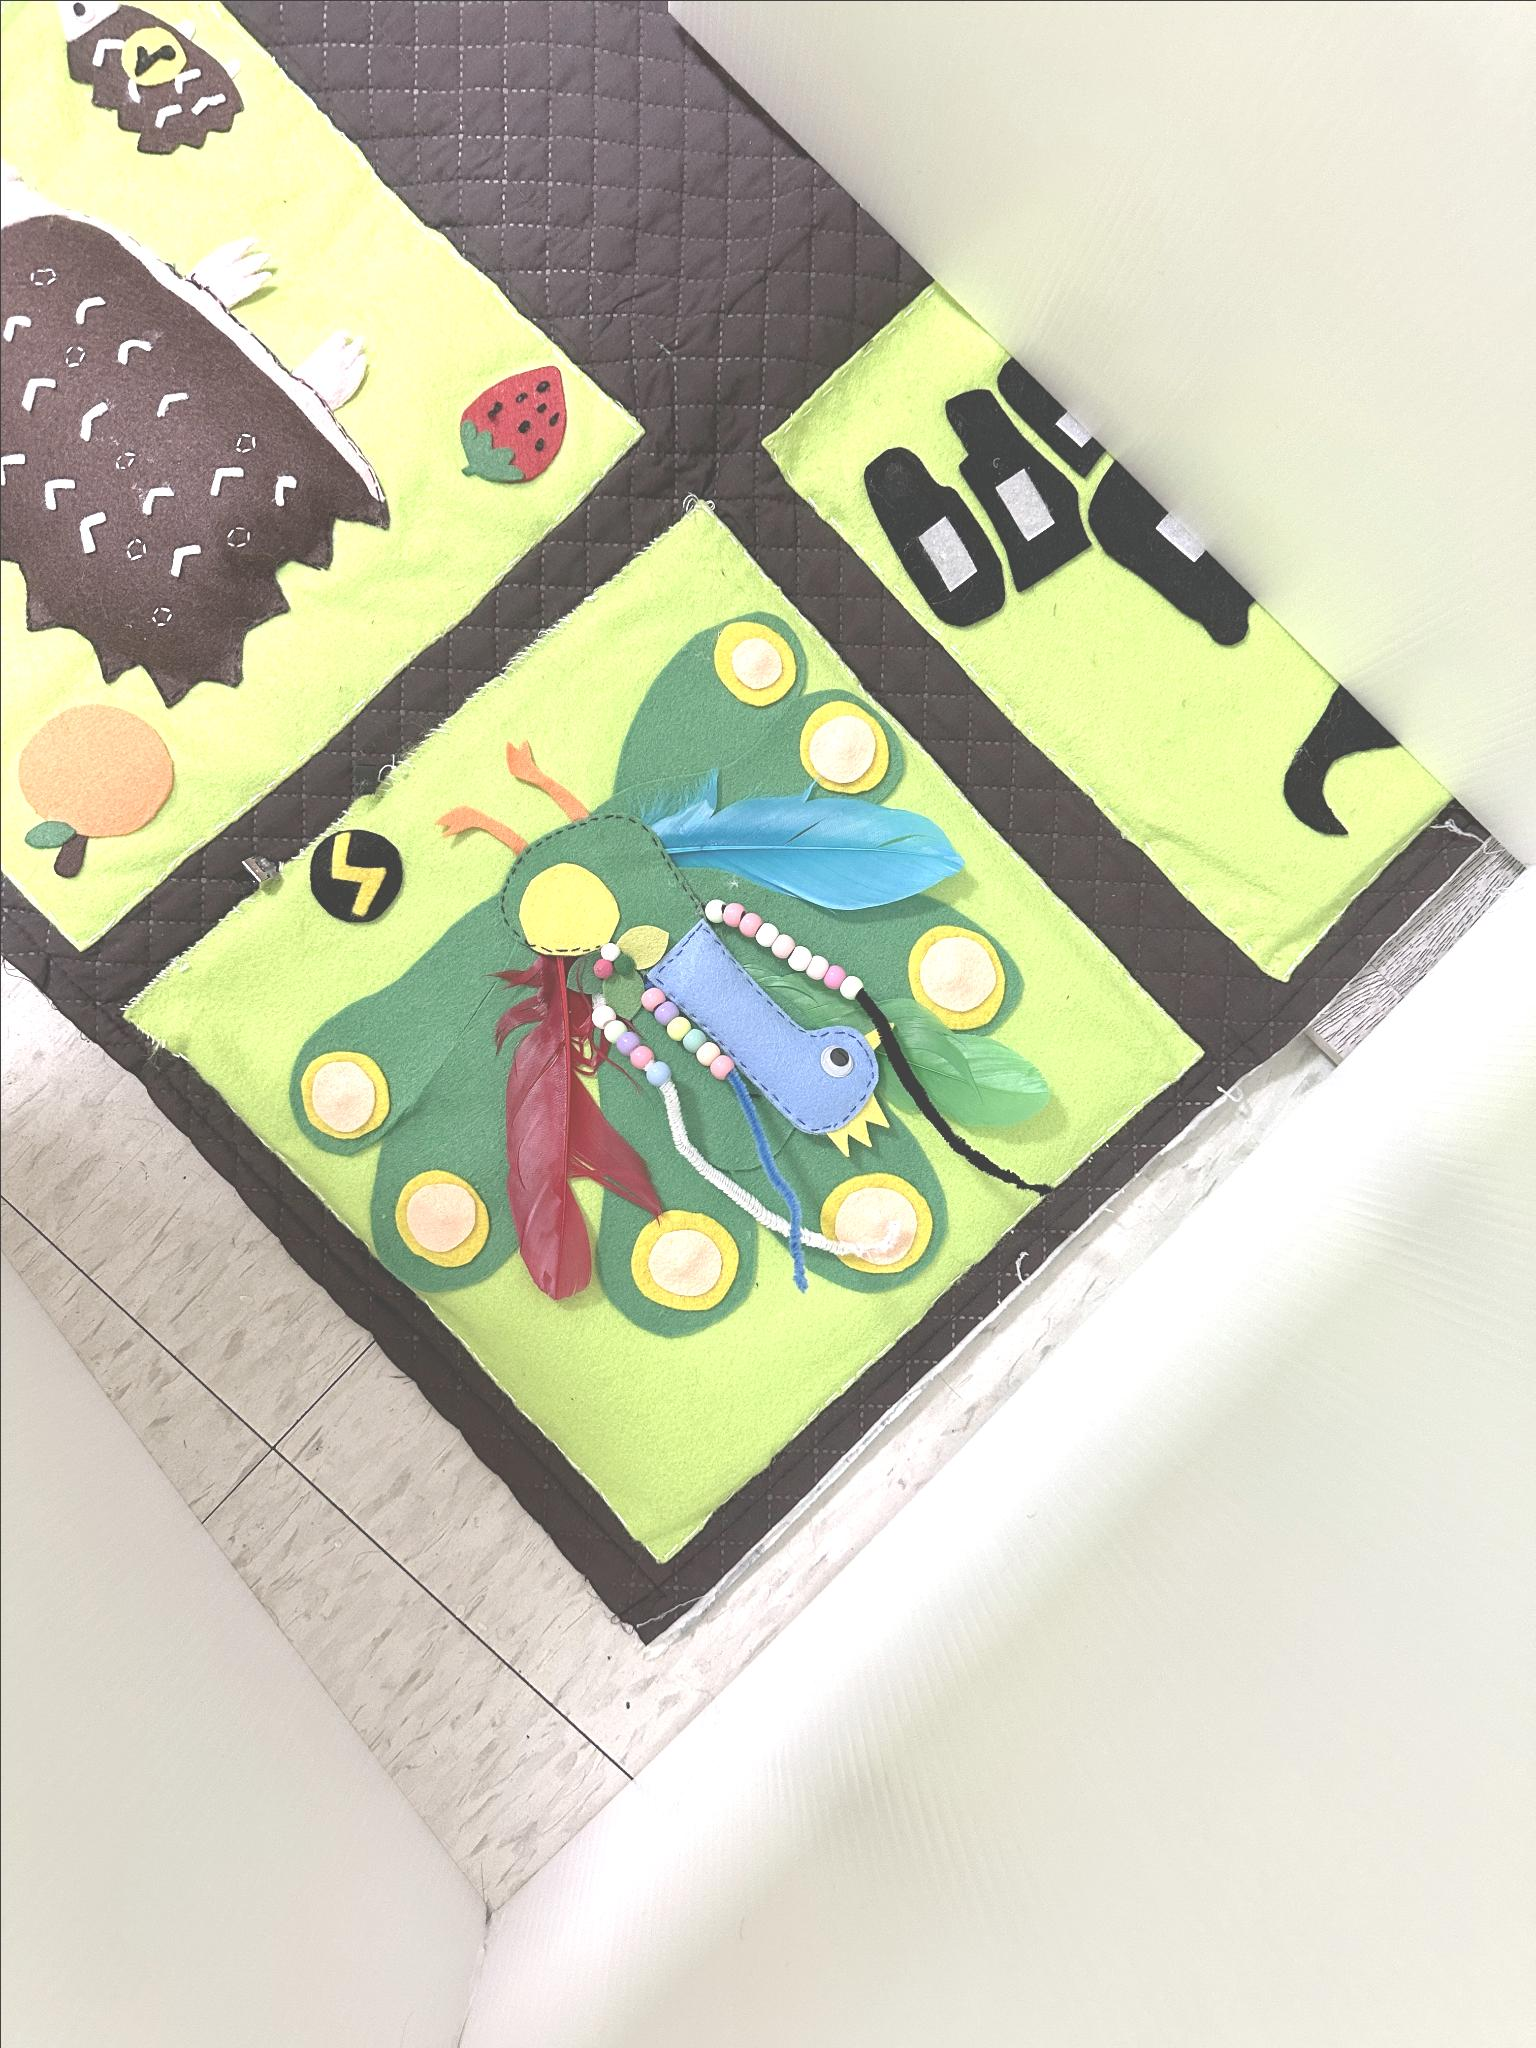bead: (628, 1043, 653, 1064), (645, 1061, 668, 1084), (839, 977, 863, 998), (757, 919, 776, 945), (712, 1055, 733, 1077), (770, 934, 792, 955), (787, 948, 808, 969), (741, 911, 758, 935), (807, 955, 824, 977), (826, 964, 842, 989), (668, 1018, 687, 1037), (616, 1032, 637, 1050), (724, 901, 741, 924), (644, 989, 662, 1008), (684, 1027, 702, 1047), (700, 1043, 718, 1063), (592, 1006, 611, 1022), (707, 900, 721, 921), (605, 1021, 623, 1037), (657, 1000, 671, 1019)
